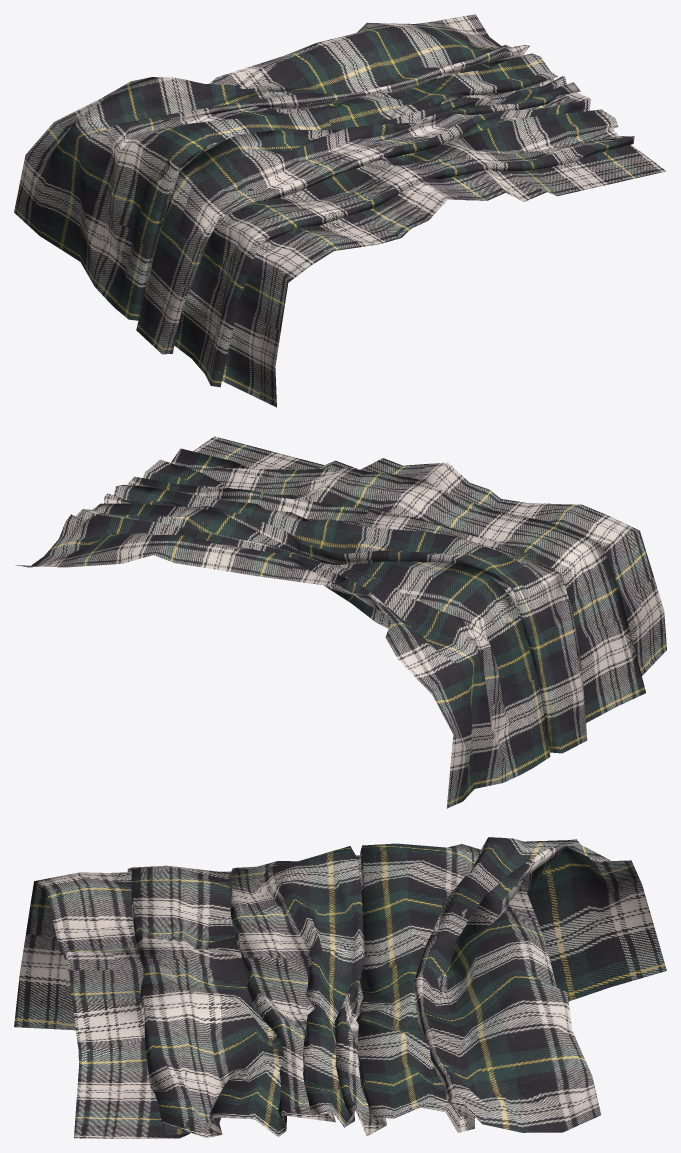
Rendered from Blanket.FBX.
3 renders of one model, top to bottom at view 1: azimuth 30°, elevation 25°; view 2: azimuth 150°, elevation 25°; view 3: azimuth 270°, elevation 25°, orthographic. The views are drawn at different scales.
Parts seen in each view (by area): view 1: Blanket; view 2: Blanket; view 3: Blanket.
Boxes of the visible parts, x1,y1,x2,y2 form: Blanket: [14, 14, 666, 407]; Blanket: [15, 436, 666, 808]; Blanket: [14, 837, 666, 1138].
Size of the model in its own units: 1496 by 1401 by 610.
1 material, 1 textured.
